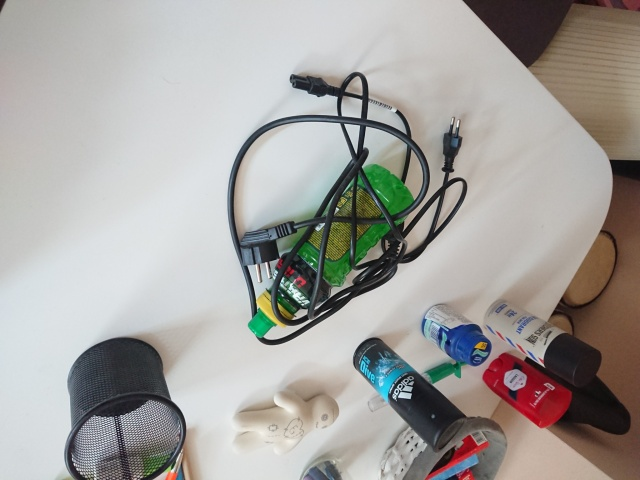Vindi Iso Sport Lemon-Grapefruit 500mL: (245, 161, 418, 341)
